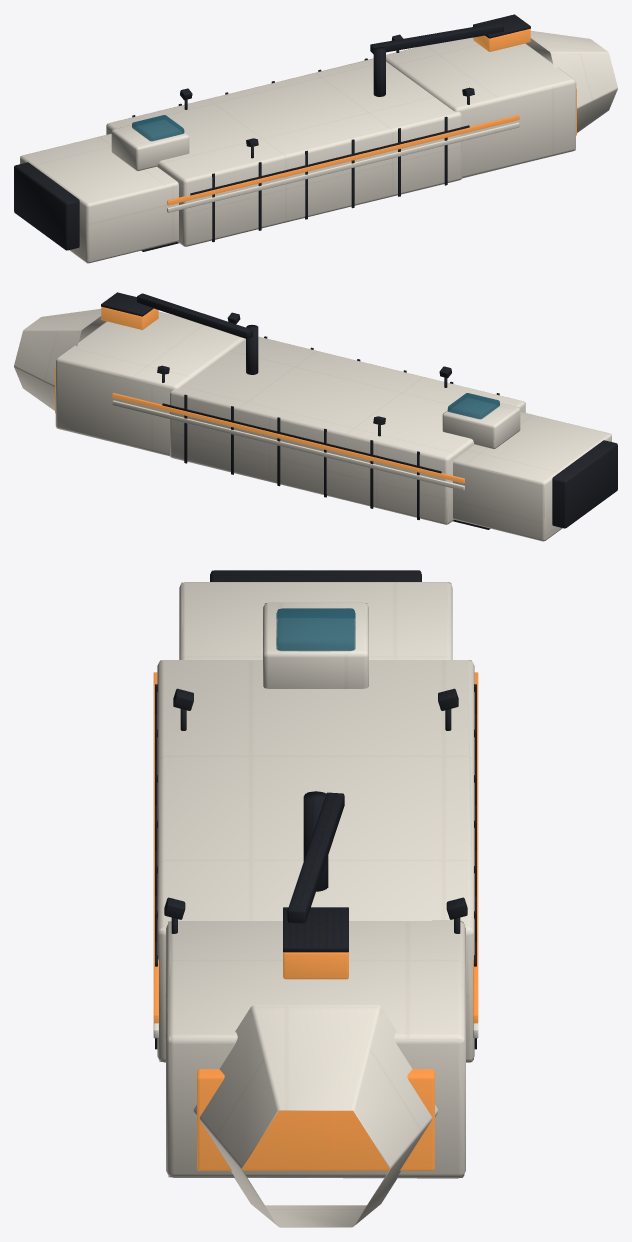
File: rescue_lifter.glb
3 views of the same model, one above another, from view 1: azimuth 30°, elevation 25°; view 2: azimuth 150°, elevation 25°; view 3: azimuth 270°, elevation 25° (orthographic). The views are drawn at different scales.
Parts seen in each view (by area): view 1: LOD0_Merged_Material_Hull, LOD0_Merged_Material_Mechanical, LOD0_Merged_Material_Warm, LOD1_Merged_Material_Hull, LOD0_Merged_Material_Glass, LOD1_Merged_Material_Glass; view 2: LOD0_Merged_Material_Hull, LOD0_Merged_Material_Mechanical, LOD0_Merged_Material_Warm, LOD1_Merged_Material_Hull, LOD0_Merged_Material_Glass, LOD1_Merged_Material_Glass; view 3: LOD0_Merged_Material_Hull, LOD0_Merged_Material_Warm, LOD0_Merged_Material_Mechanical, LOD1_Merged_Material_Hull, LOD0_Merged_Material_Glass, LOD1_Merged_Material_Glass.
Part boxes in pixels (x1=…): LOD0_Merged_Material_Hull: x1=20, y1=31, x2=617, y2=263; LOD0_Merged_Material_Mechanical: x1=14, y1=14, x2=530, y2=251; LOD0_Merged_Material_Warm: x1=167, y1=29, x2=576, y2=205; LOD1_Merged_Material_Hull: x1=20, y1=38, x2=576, y2=262; LOD0_Merged_Material_Glass: x1=132, y1=115, x2=183, y2=140; LOD1_Merged_Material_Glass: x1=132, y1=115, x2=183, y2=140; LOD0_Merged_Material_Hull: x1=14, y1=308, x2=611, y2=541; LOD0_Merged_Material_Mechanical: x1=101, y1=292, x2=617, y2=529; LOD0_Merged_Material_Warm: x1=55, y1=307, x2=464, y2=483; LOD1_Merged_Material_Hull: x1=52, y1=316, x2=611, y2=541; LOD0_Merged_Material_Glass: x1=447, y1=393, x2=499, y2=418; LOD1_Merged_Material_Glass: x1=448, y1=393, x2=499, y2=418; LOD0_Merged_Material_Hull: x1=153, y1=582, x2=478, y2=1227; LOD0_Merged_Material_Warm: x1=153, y1=672, x2=478, y2=1170; LOD0_Merged_Material_Mechanical: x1=155, y1=570, x2=476, y2=1049; LOD1_Merged_Material_Hull: x1=158, y1=582, x2=473, y2=1226; LOD0_Merged_Material_Glass: x1=276, y1=608, x2=355, y2=650; LOD1_Merged_Material_Glass: x1=276, y1=608, x2=354, y2=650.
Size of what is drawn, in the model's own units: 29.3 by 7.06 by 7.36.
5 materials, 5 textured.
